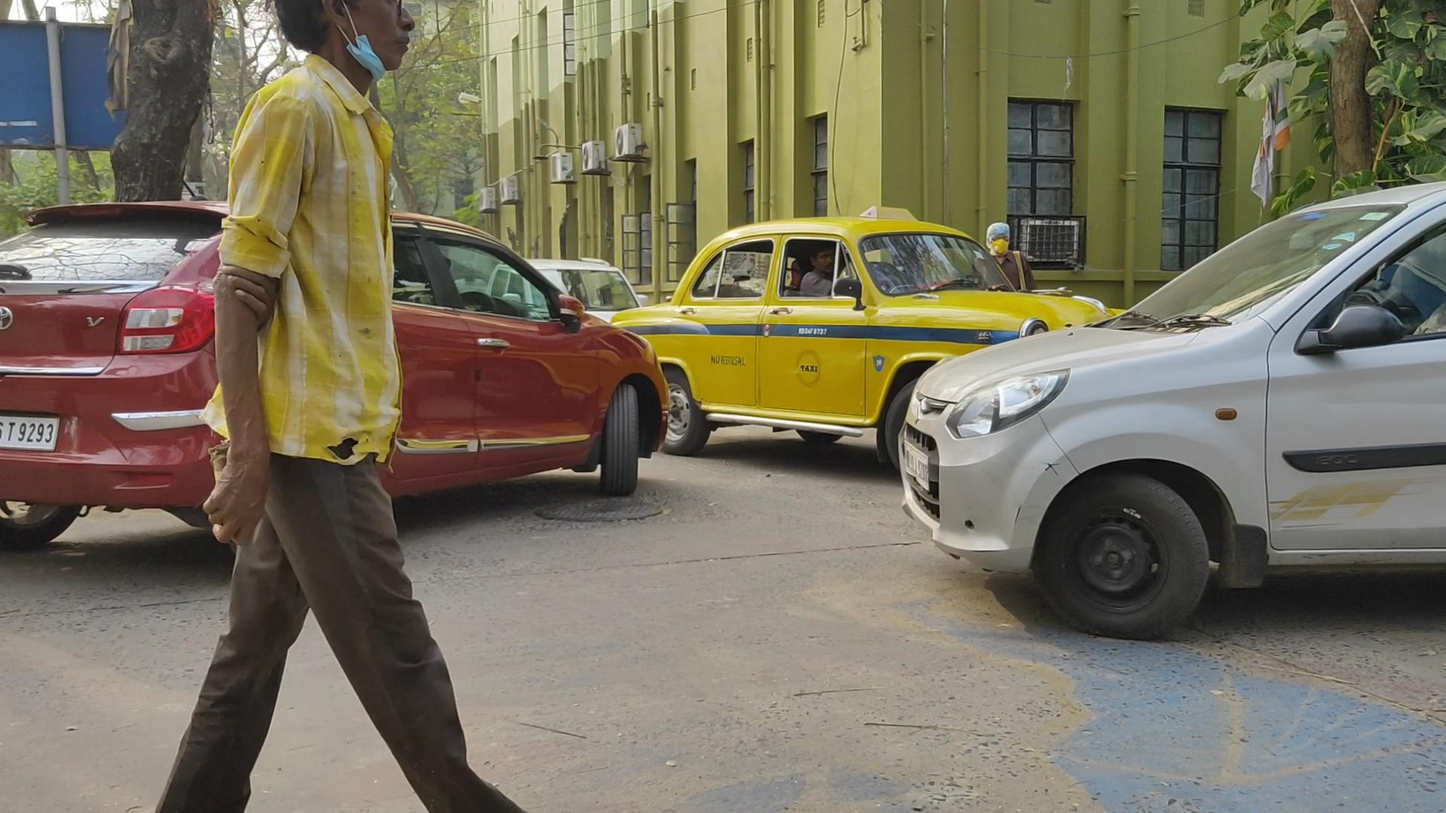car: (899, 181, 1446, 638), (2, 200, 669, 553), (608, 207, 1139, 476)
